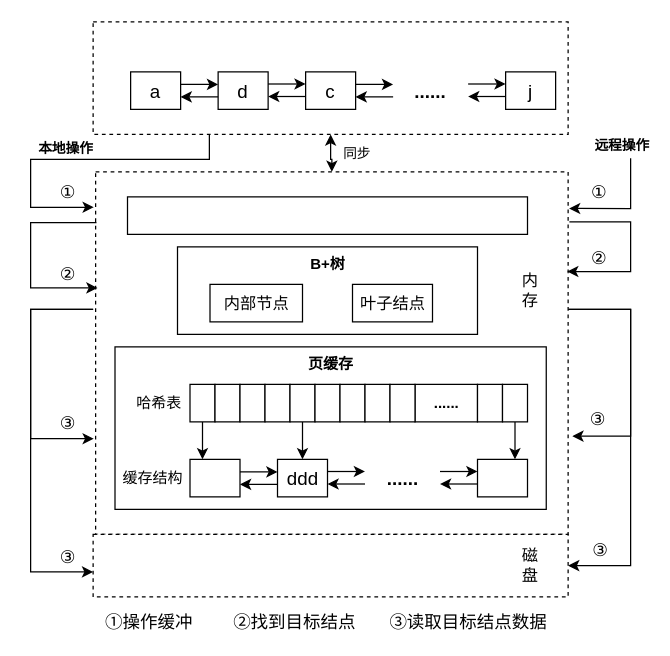
Some shapes in this 670 by 656 pixel diagram are drawn without their labels. Here are the shapes that lost their labels. From the top down, the box of each, then its label:
(92, 21, 568, 134): 用户视图
(126, 196, 528, 234): 字符缓冲区
(189, 458, 240, 497): aaa
(476, 458, 528, 497): jjj
(92, 533, 568, 597): 磁盘文件
